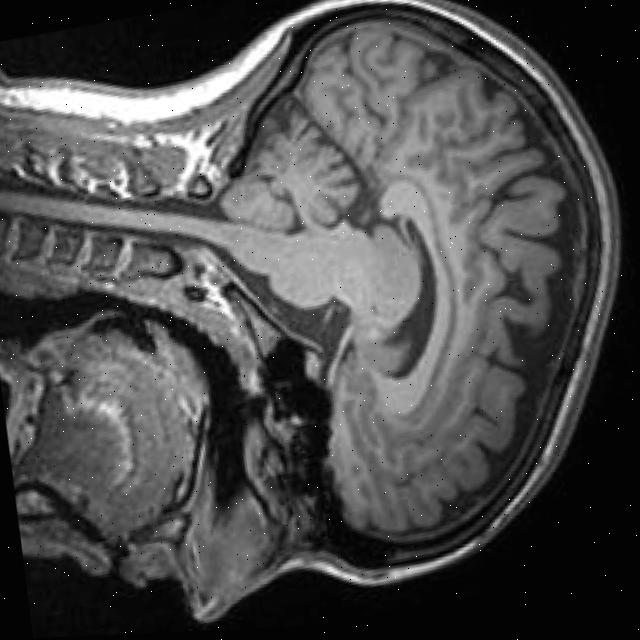NoTumor: (188, 0, 640, 609)
